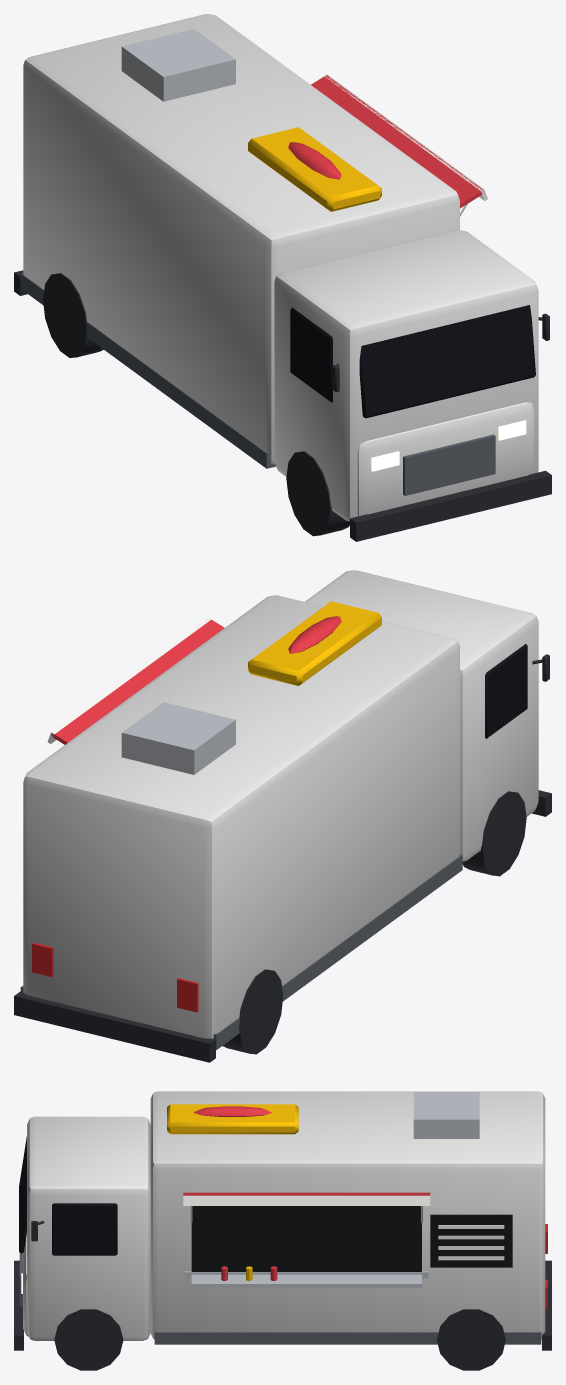
The model's file is food_truck.glb.
3 renders of one model, top to bottom at view 1: azimuth 30°, elevation 25°; view 2: azimuth 150°, elevation 25°; view 3: azimuth 270°, elevation 25°, orthographic. The views are drawn at different scales.
Visible parts, largest first — view 1: body; view 2: body; view 3: body.
Part boxes in pixels (x1,y1,x2,y2): body: (14, 14, 551, 541); body: (14, 570, 551, 1062); body: (14, 1091, 551, 1370).
Size of the model in its own units: 275 by 306 by 654.
